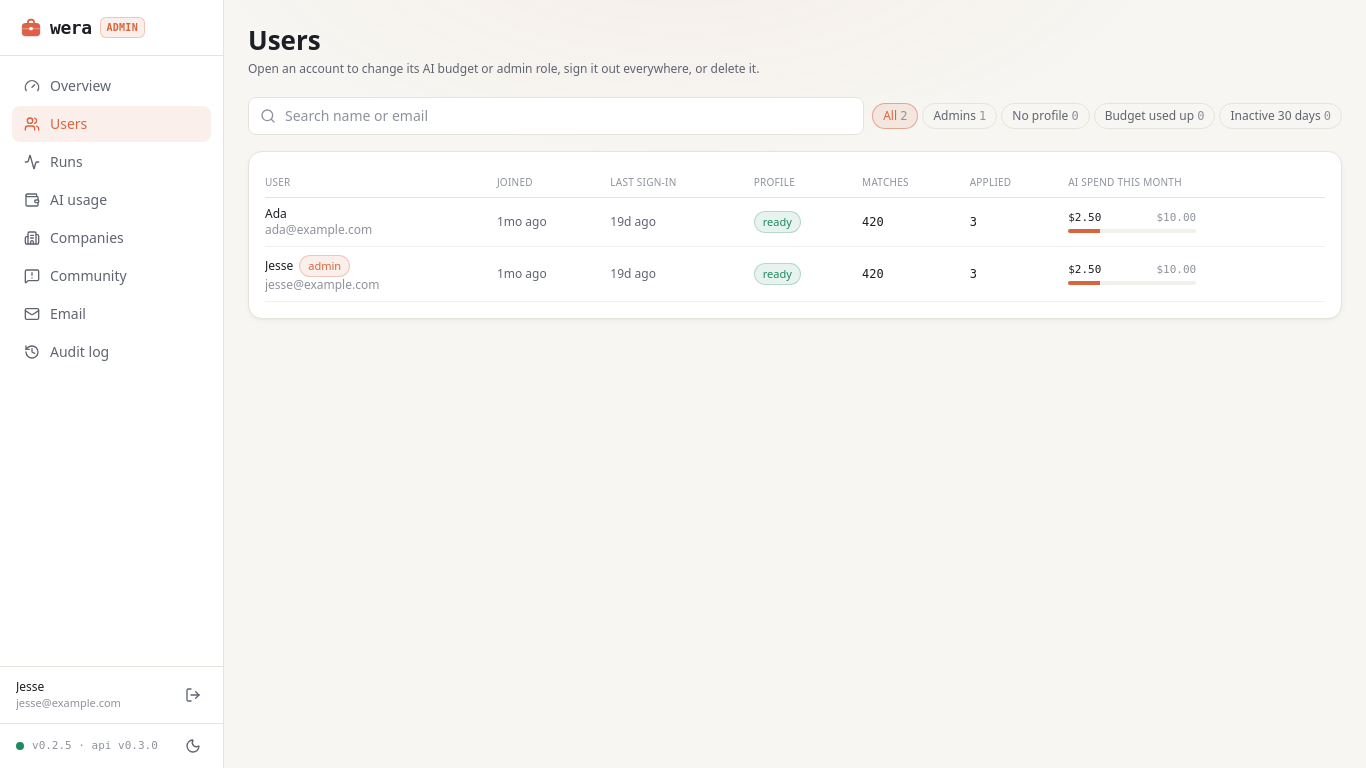
UsersPage › shows why a save failed
This screenshot has width=1366, height=768.
Click the text "Ada" at (276, 213), box [265,205,287,222]
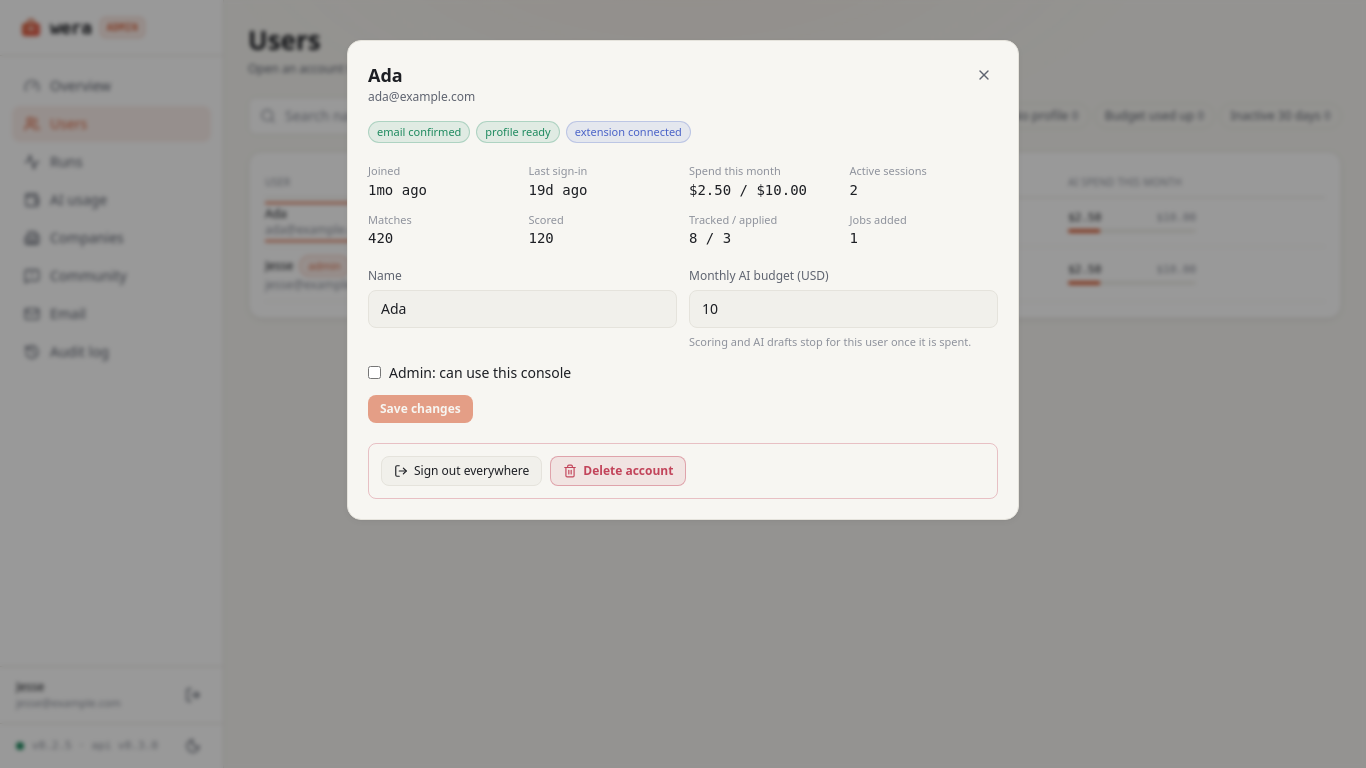
Type "x" into the field labelled "Name" at (522, 309), box [368,290,677,328]
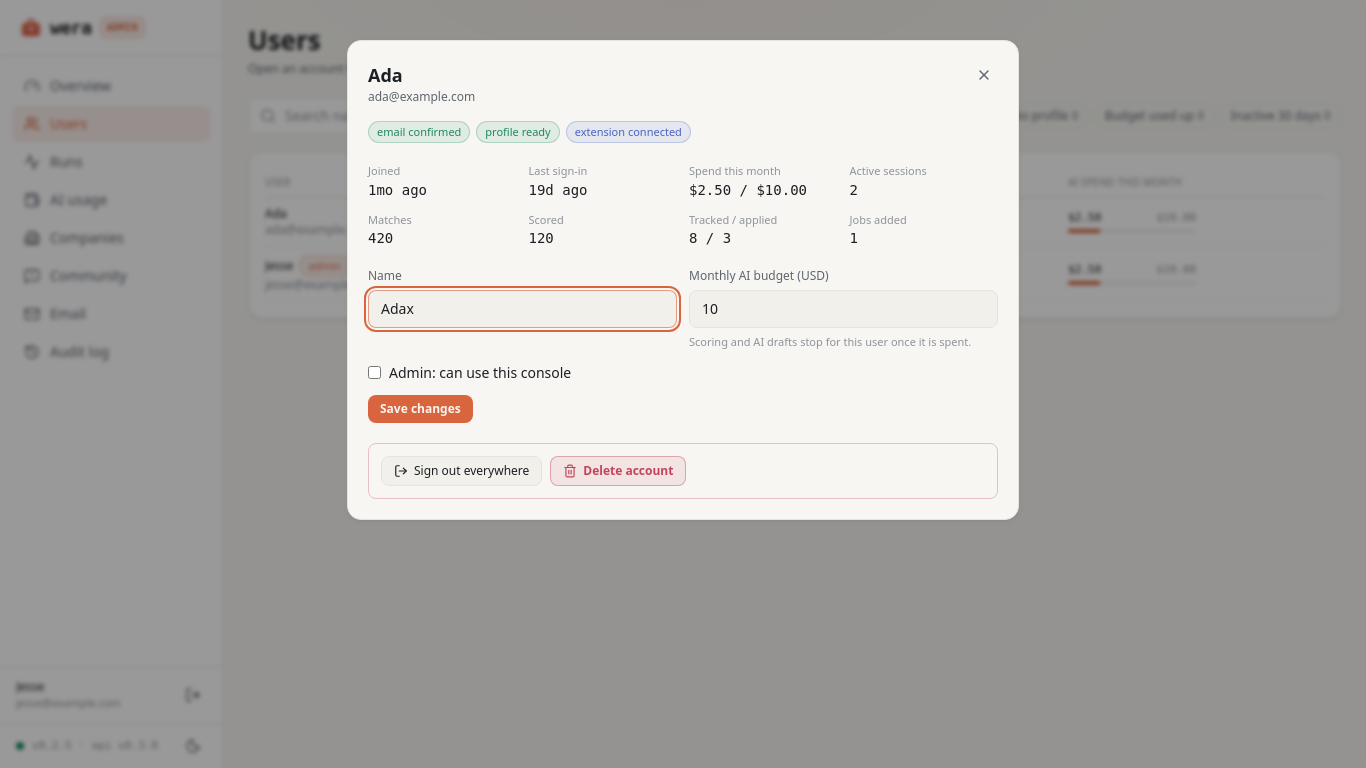
Click the button "Save changes" at (420, 408), box [368,394,473,422]
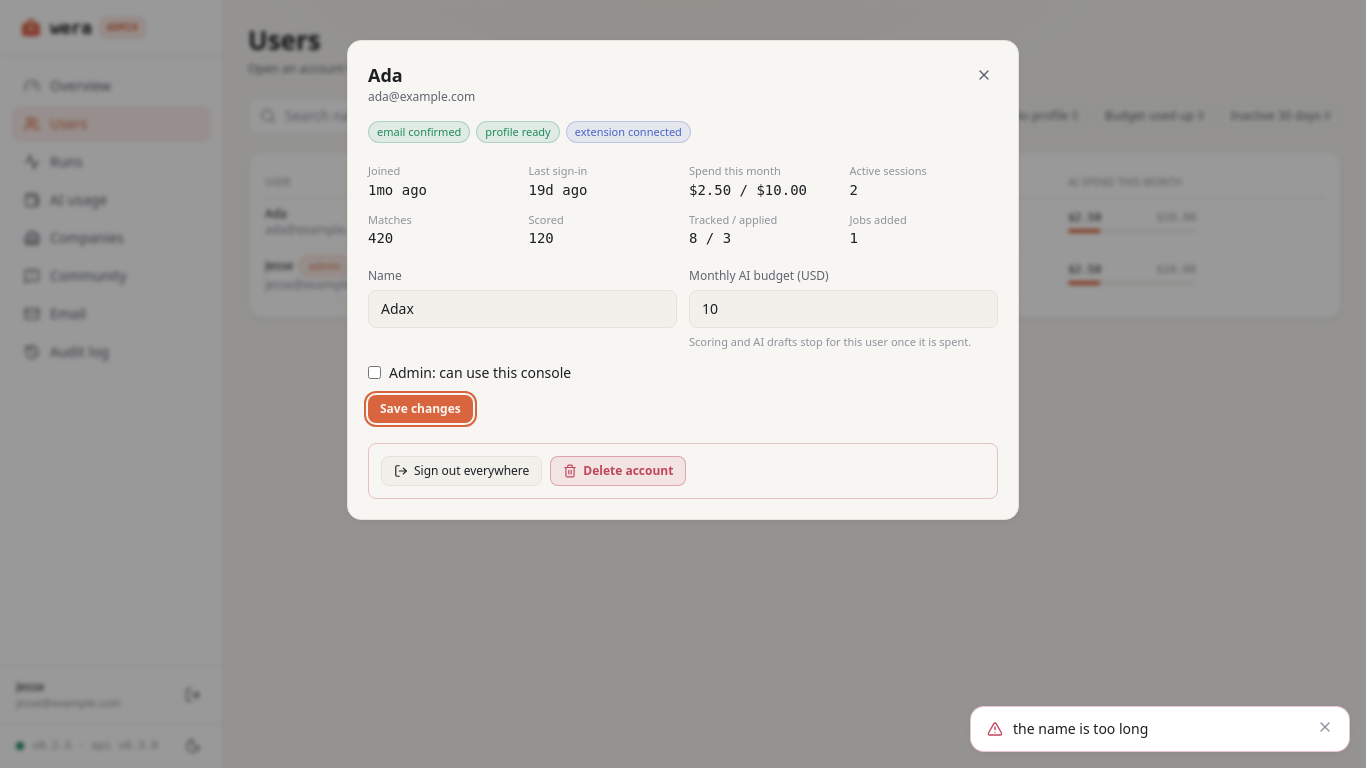
Result: the text "the name is too long" is shown at [1013,719,1148,739]
